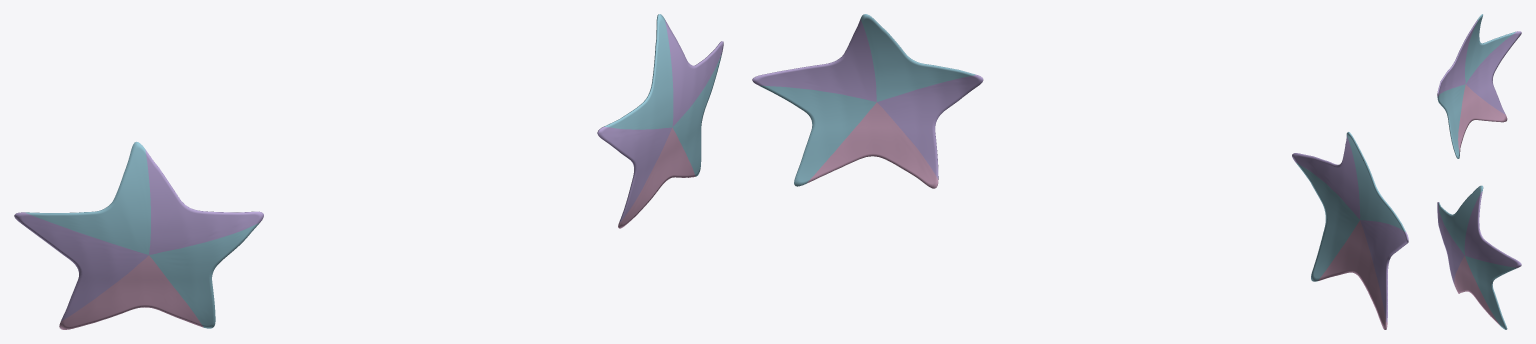
The model's file is Feminine-bandeau-top.glb.
3 renders of one model, left to right at view 1: azimuth 30°, elevation 25°; view 2: azimuth 150°, elevation 25°; view 3: azimuth 270°, elevation 25°, orthographic. The views are drawn at different scales.
Visible parts, largest first — view 1: Top / star pastie192 -1, Top / star pastie192 1; view 2: Top / star pastie192 1, Top / star pastie192 -1; view 3: Top / star pastie192 -1, Top / star pastie192 1.
Boxes of the visible parts, x1,y1,x2,y2 form: Top / star pastie192 -1: (14,141,263,329); Top / star pastie192 1: (597,14,723,228); Top / star pastie192 1: (752,14,983,188); Top / star pastie192 -1: (1292,132,1408,329); Top / star pastie192 -1: (1437,14,1521,158); Top / star pastie192 1: (1437,185,1521,329).
Size of the model in its own units: 0.4194 by 0.1061 by 0.0644.
